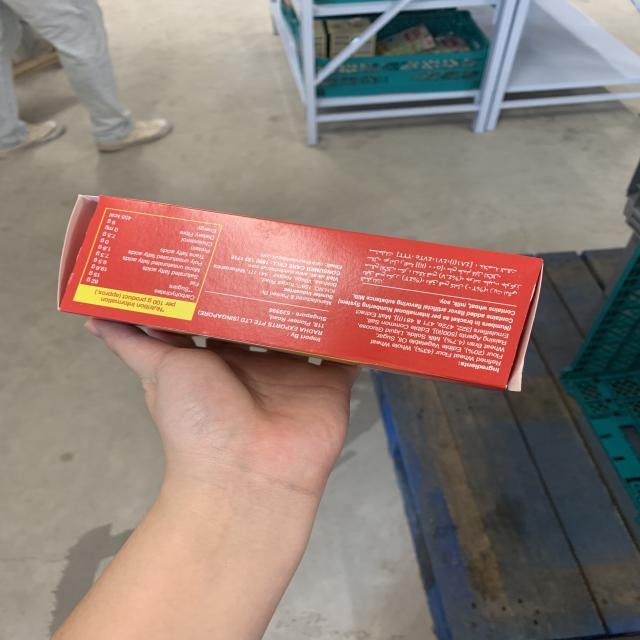object_name: (62, 213, 532, 390)
